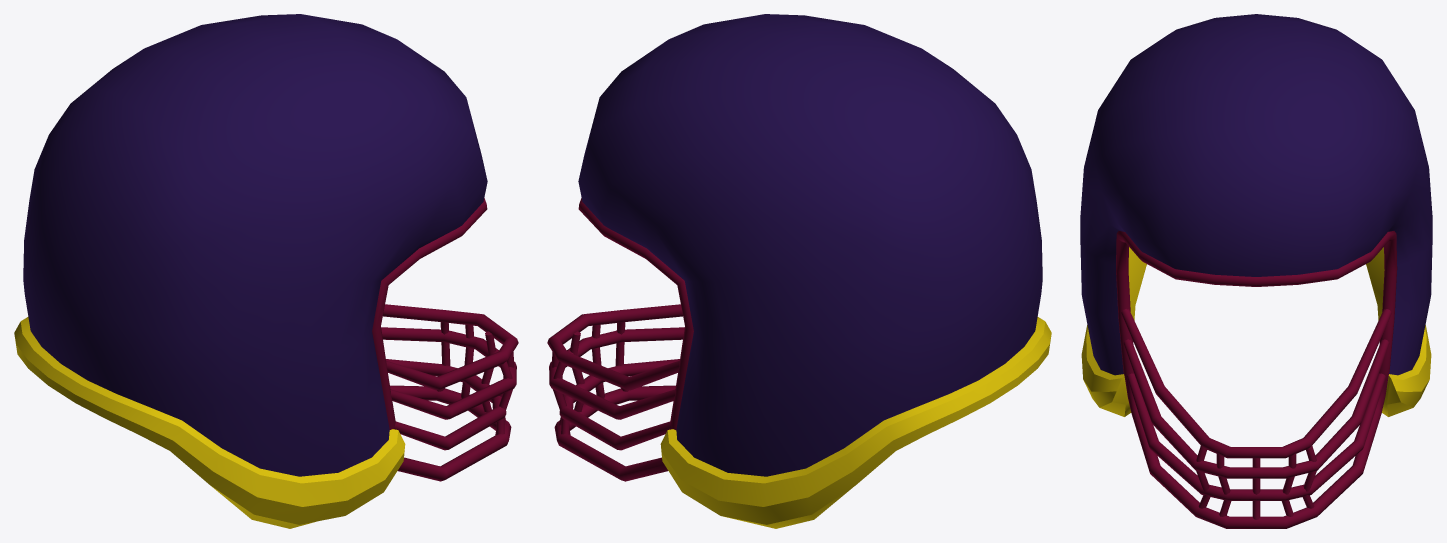
The model's file is Helmet.FBX.
The picture shows the model from 3 angles, left to right: view 1: azimuth 30°, elevation 25°; view 2: azimuth 150°, elevation 25°; view 3: azimuth 270°, elevation 25°; orthographic projection. The views are drawn at different scales.
Parts seen in each view (by area): view 1: Helmet; view 2: Helmet; view 3: Helmet.
Part boxes in pixels (left/top/right/bottom): Helmet: left=14, top=14, right=518, bottom=528; Helmet: left=547, top=14, right=1051, bottom=528; Helmet: left=1080, top=14, right=1432, bottom=528.
Bounding box in the file's own units: 997 × 751 × 921.
